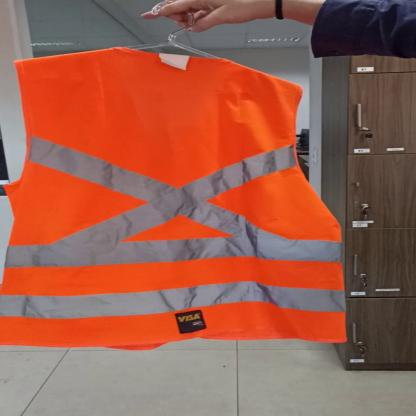colete: (5, 49, 350, 350)
